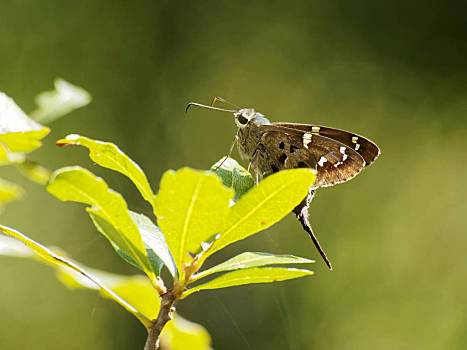Hesperiidae: (182, 88, 382, 218)
